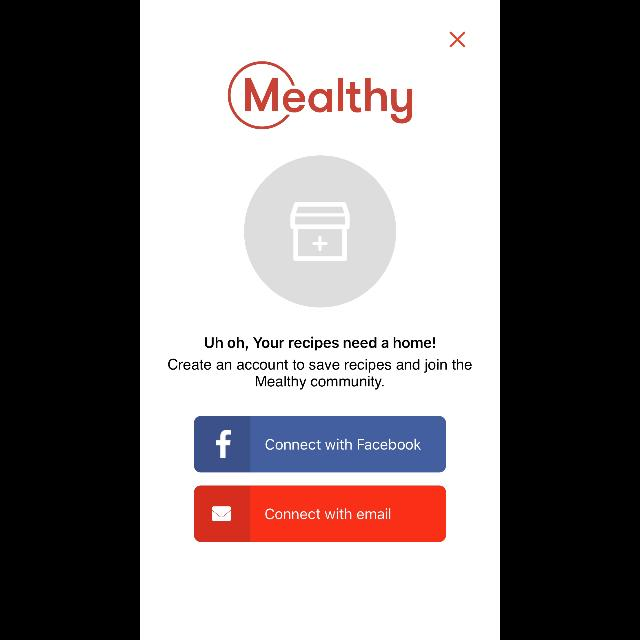icon: (449, 32, 465, 48)
image: (244, 156, 396, 308), (228, 62, 412, 130)
text: (168, 358, 472, 389), (205, 337, 435, 351)
textbutton: (194, 486, 446, 542), (194, 416, 446, 472)
